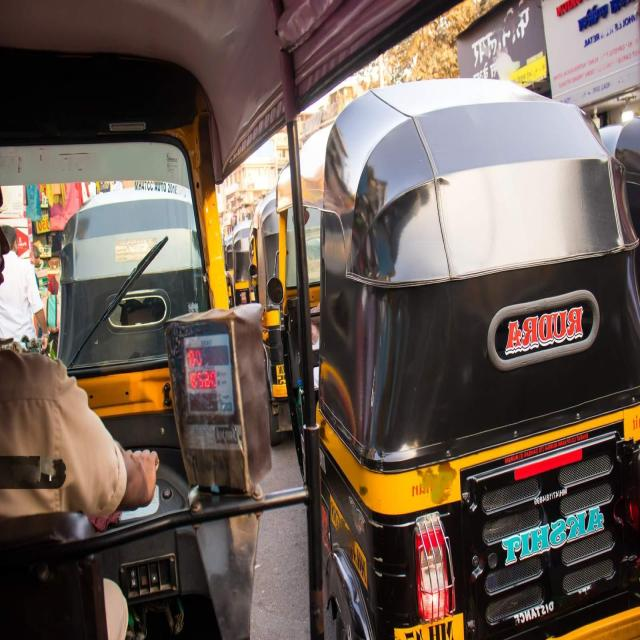autorickshaw: (319, 79, 640, 639)
